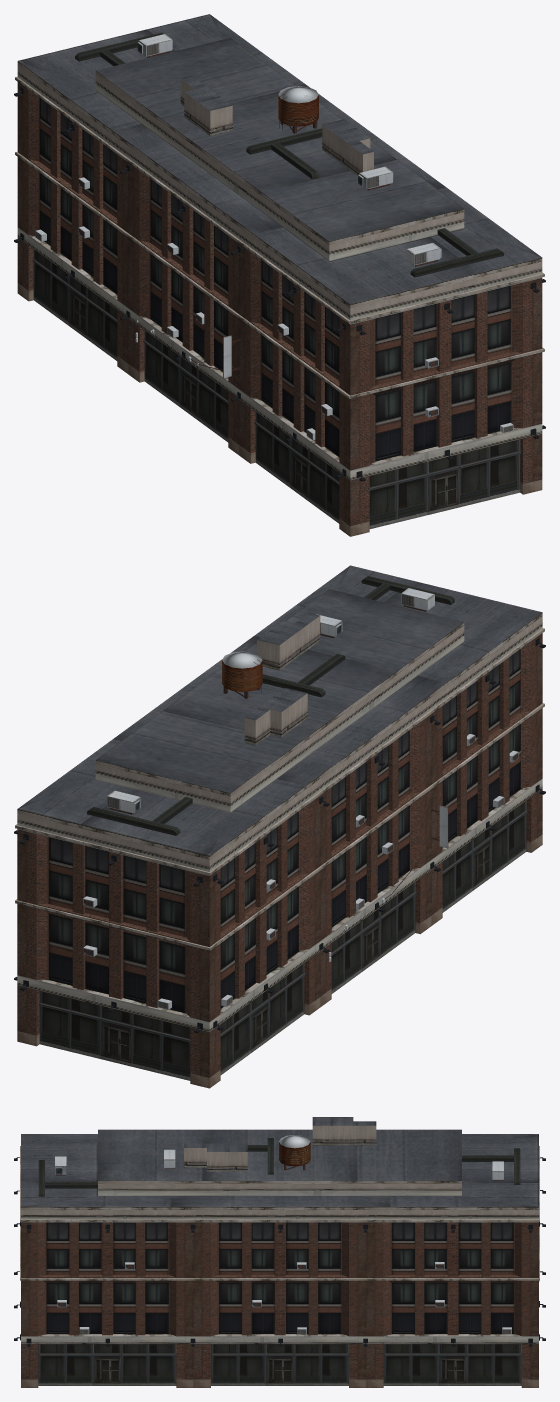
The model's file is tutorial_building2.gltf.
3 renders of one model, top to bottom at view 1: azimuth 30°, elevation 25°; view 2: azimuth 150°, elevation 25°; view 3: azimuth 270°, elevation 25°, orthographic. The views are drawn at different scales.
Visible parts, largest first — view 1: building2; view 2: building2; view 3: building2.
Boxes of the visible parts, x1,y1,x2,y2 form: building2: (14, 14, 545, 536); building2: (14, 565, 545, 1088); building2: (14, 1117, 545, 1387).
Bounding box in the file's own units: 15.33 × 19.58 × 41.97.
Materials: 2 (2 with a texture image).
